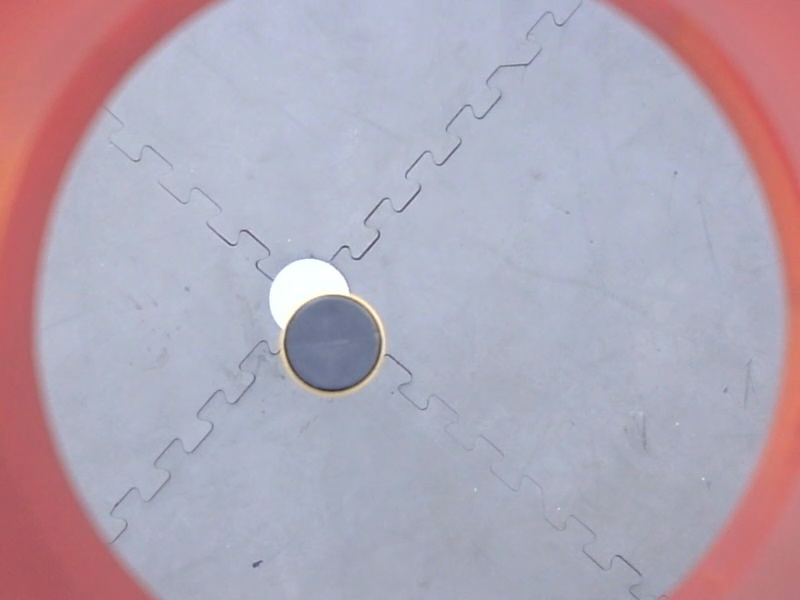tip: (277, 286, 391, 402)
